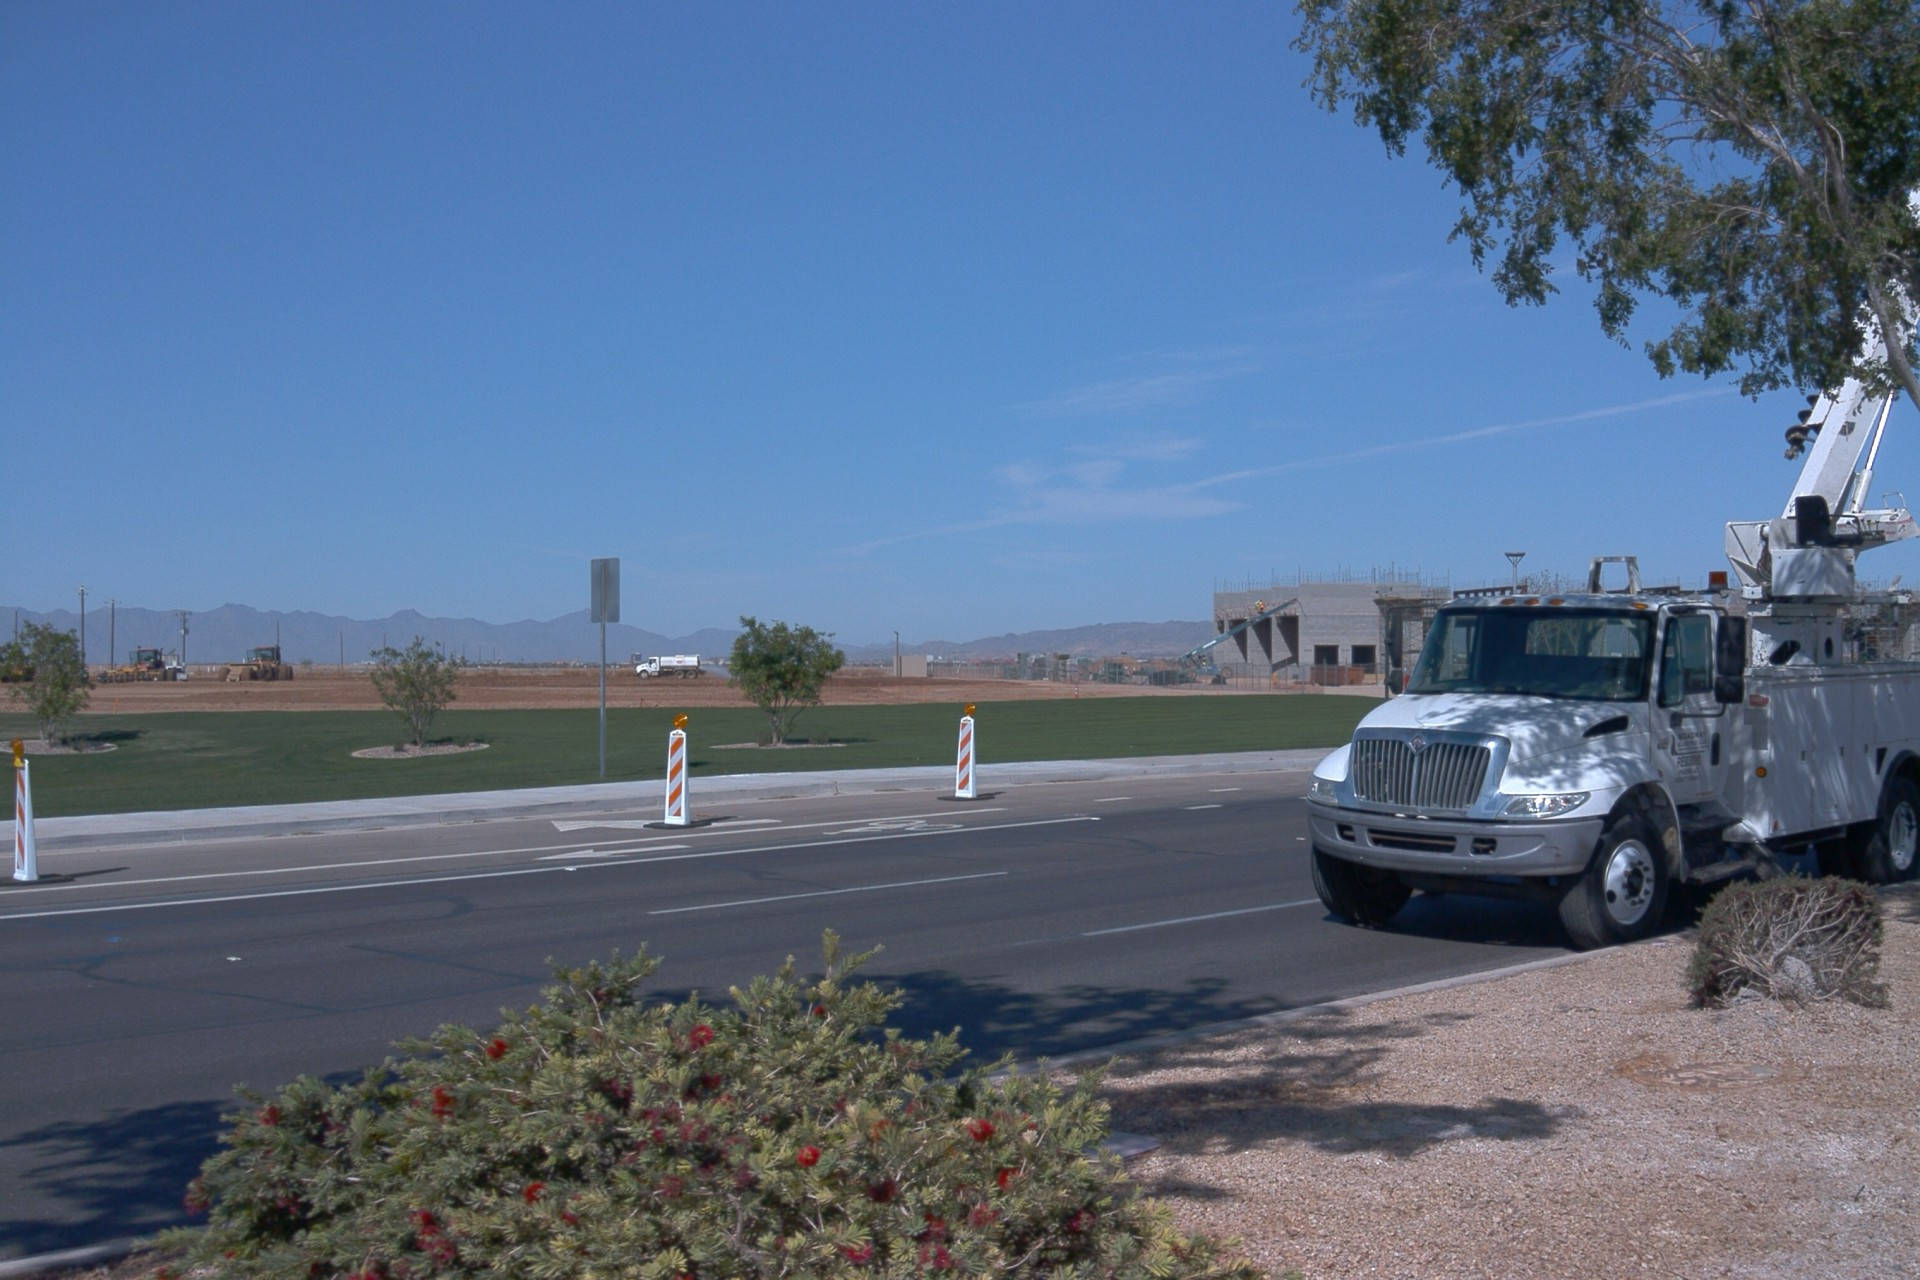TYPE_PEDESTRIAN: (82, 665, 90, 684)
TYPE_VEHICLE: (1301, 175, 1920, 951), (1181, 595, 1305, 677), (631, 646, 706, 687), (164, 670, 186, 687)
